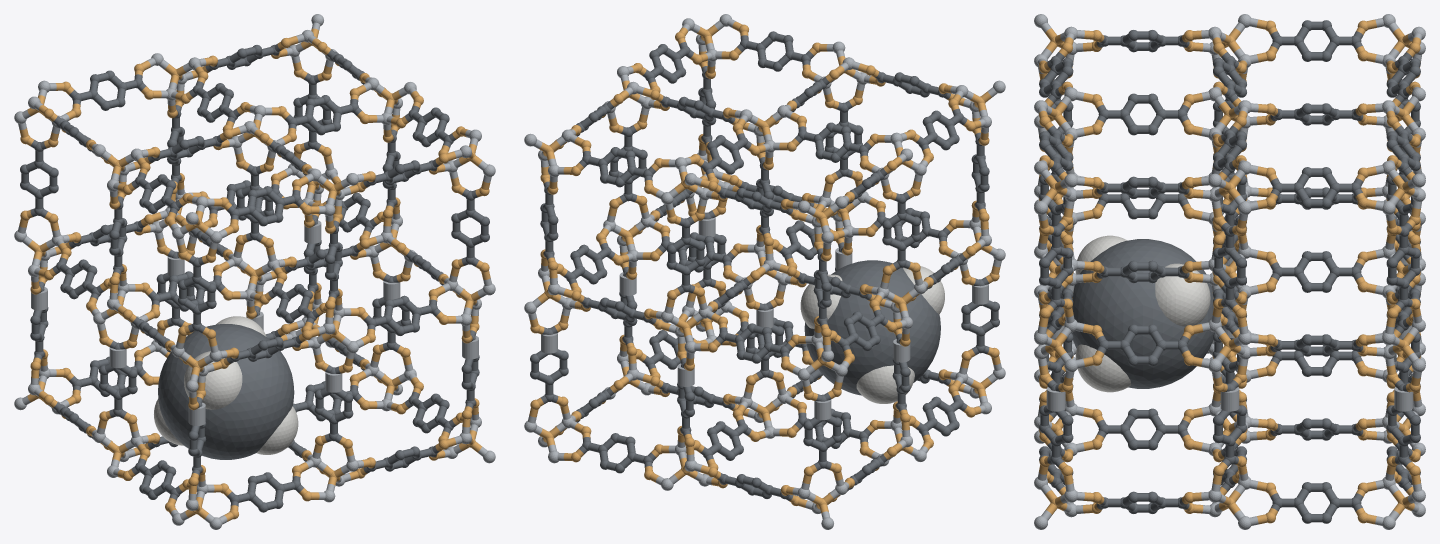
Rendered from mof5_assembled.glb.
3 renders of one model, left to right at view 1: azimuth 30°, elevation 25°; view 2: azimuth 150°, elevation 25°; view 3: azimuth 270°, elevation 25°, orthographic. The views are drawn at different scales.
Parts seen in each view (by area): view 1: C, O, Zn, guest_C, guest_H, joint_collars; view 2: C, O, Zn, guest_C, joint_collars, guest_H; view 3: C, O, Zn, guest_C, guest_H, joint_collars.
Boxes of the visible parts, x1=… form: C: x1=20, y1=43, x2=489, y2=512; O: x1=19, y1=28, x2=490, y2=521; Zn: x1=14, y1=14, x2=495, y2=529; guest_C: x1=158, y1=324, x2=294, y2=459; guest_H: x1=154, y1=316, x2=298, y2=454; joint_collars: x1=31, y1=220, x2=478, y2=425; C: x1=530, y1=31, x2=999, y2=500; O: x1=529, y1=21, x2=1000, y2=513; Zn: x1=524, y1=14, x2=1005, y2=529; guest_C: x1=804, y1=260, x2=940, y2=395; joint_collars: x1=541, y1=217, x2=988, y2=420; guest_H: x1=800, y1=266, x2=944, y2=403; C: x1=1039, y1=20, x2=1420, y2=523; O: x1=1039, y1=19, x2=1420, y2=524; Zn: x1=1034, y1=14, x2=1425, y2=529; guest_C: x1=1071, y1=239, x2=1214, y2=388; guest_H: x1=1075, y1=235, x2=1210, y2=392; joint_collars: x1=1046, y1=257, x2=1413, y2=411.
Size of the model in its own units: 0.15 by 0.15 by 0.15.
